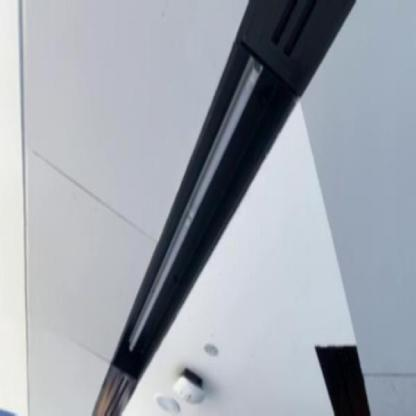light_off: (121, 54, 268, 360)
